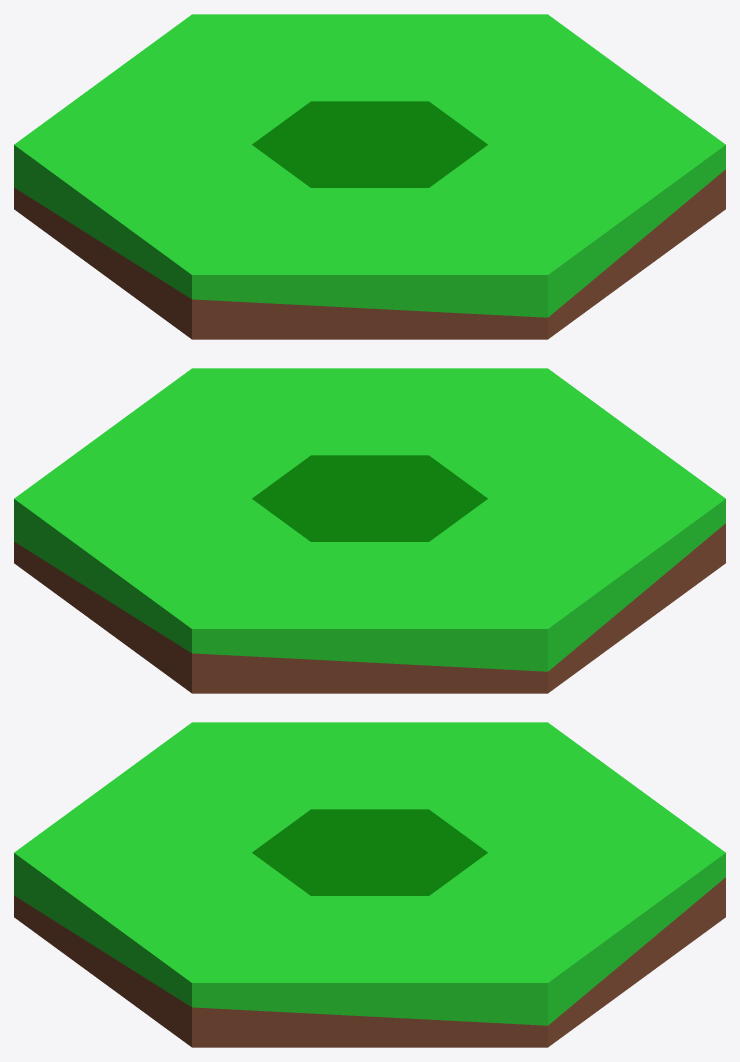
The model's file is emptyTile.fbx.
The picture shows the model from 3 angles, top to bottom: view 1: azimuth 30°, elevation 25°; view 2: azimuth 150°, elevation 25°; view 3: azimuth 270°, elevation 25°; orthographic projection.
Visible parts, largest first — view 1: CylinderForest; view 2: CylinderForest; view 3: CylinderForest.
Boxes of the visible parts, <box> form: CylinderForest: <box>14,14,725,339</box>; CylinderForest: <box>14,368,725,693</box>; CylinderForest: <box>14,722,725,1047</box>.
Bounding box in the file's own units: 173 × 40 × 200.
